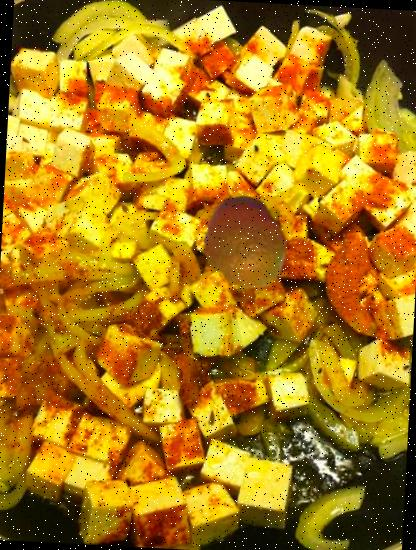Mandarine: (194, 193, 295, 294)
